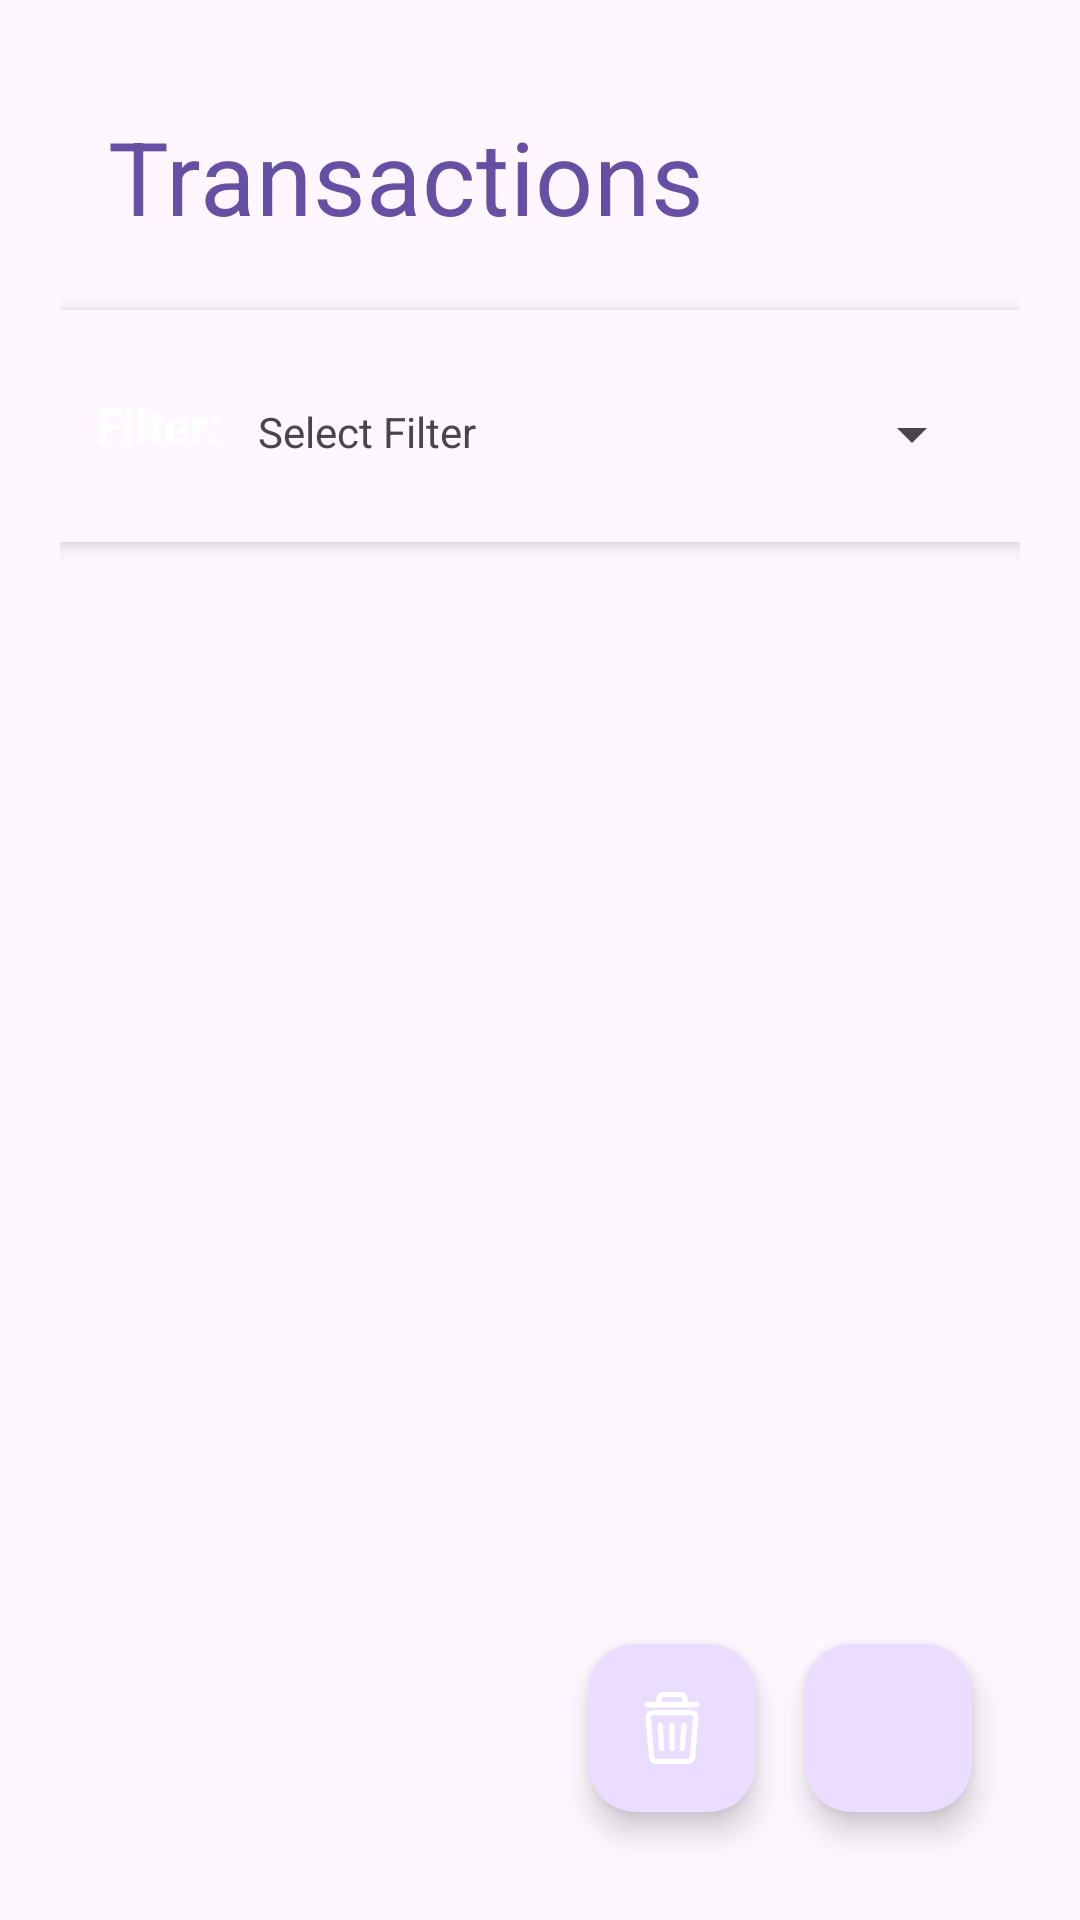

Named icons in this screenshot (1080×1920) and their bounding boxes, [x1, y1, x2, y2]:
recycle bin: [588, 1644, 756, 1812]
